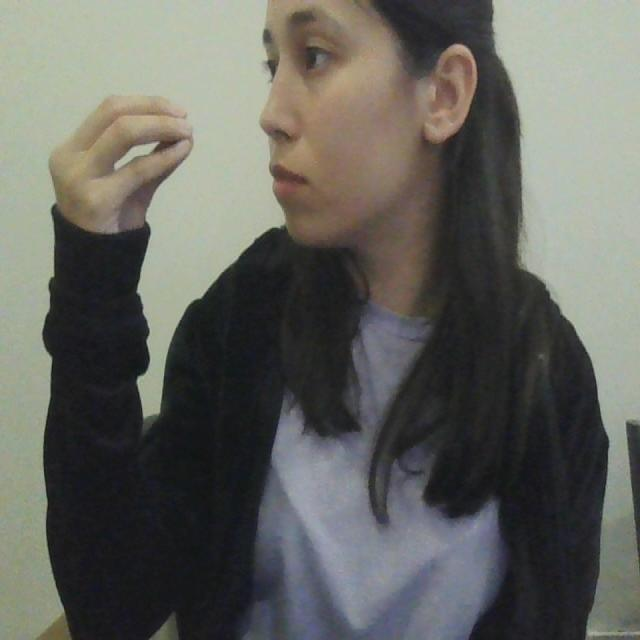Yemek: (50, 92, 304, 202)
